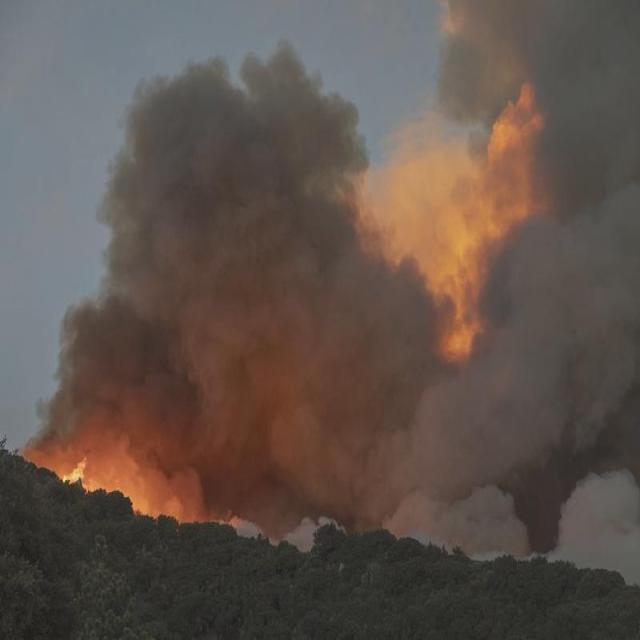Fire: (61, 454, 100, 492)
Smoke: (21, 1, 640, 585)
